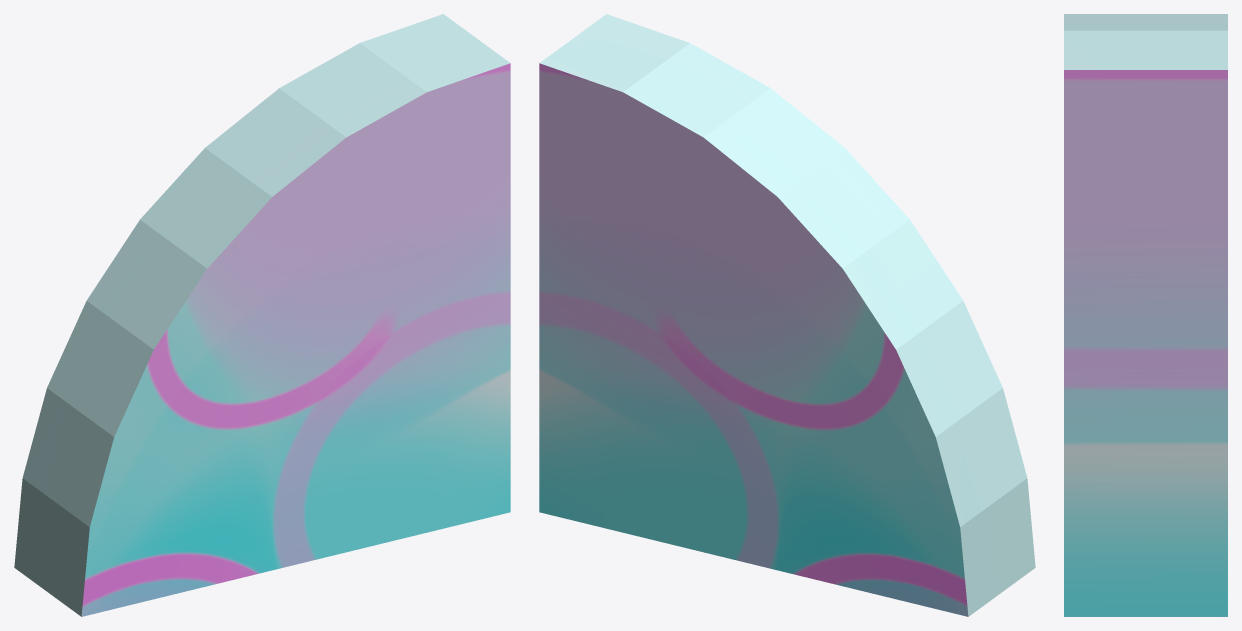
The model's file is лево верх.fbx.
3 renders of one model, left to right at view 1: azimuth 30°, elevation 25°; view 2: azimuth 150°, elevation 25°; view 3: azimuth 270°, elevation 25°, orthographic. The views are drawn at different scales.
Visible parts, largest first — view 1: Cylinder.004; view 2: Cylinder.004; view 3: Cylinder.004.
Boxes of the visible parts, x1,y1,x2,y2 form: Cylinder.004: (14, 14, 510, 616); Cylinder.004: (539, 14, 1035, 616); Cylinder.004: (1064, 14, 1227, 616).
Size of the model in its own units: 100 by 100 by 27.14.
